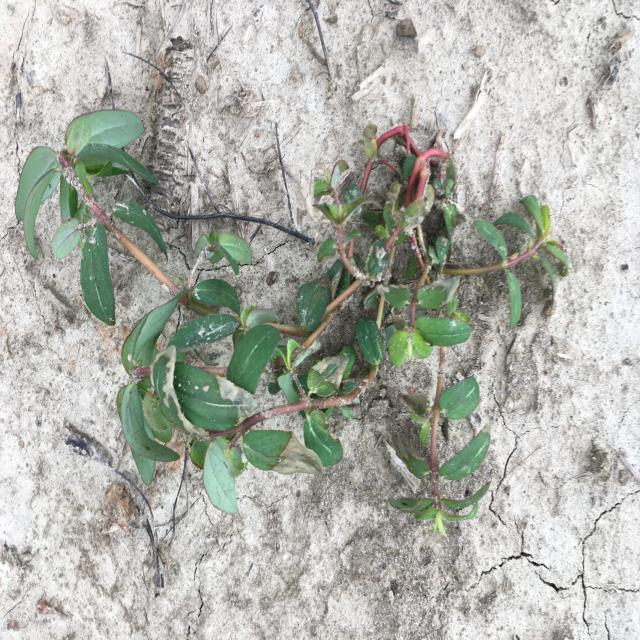SpottedSpurge: (15, 110, 570, 538)
